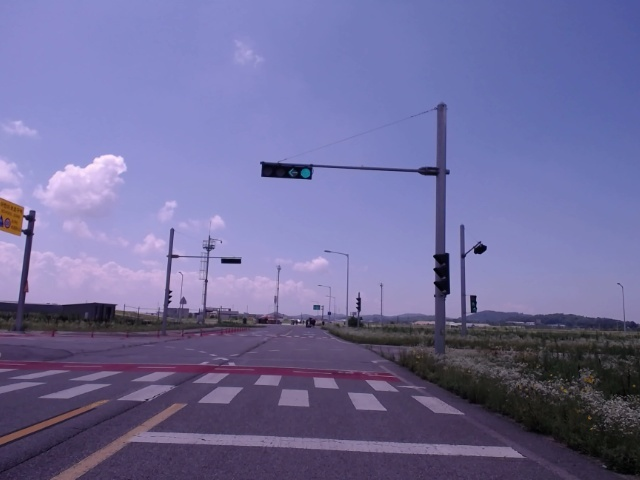all_green_4: (261, 161, 311, 179)
